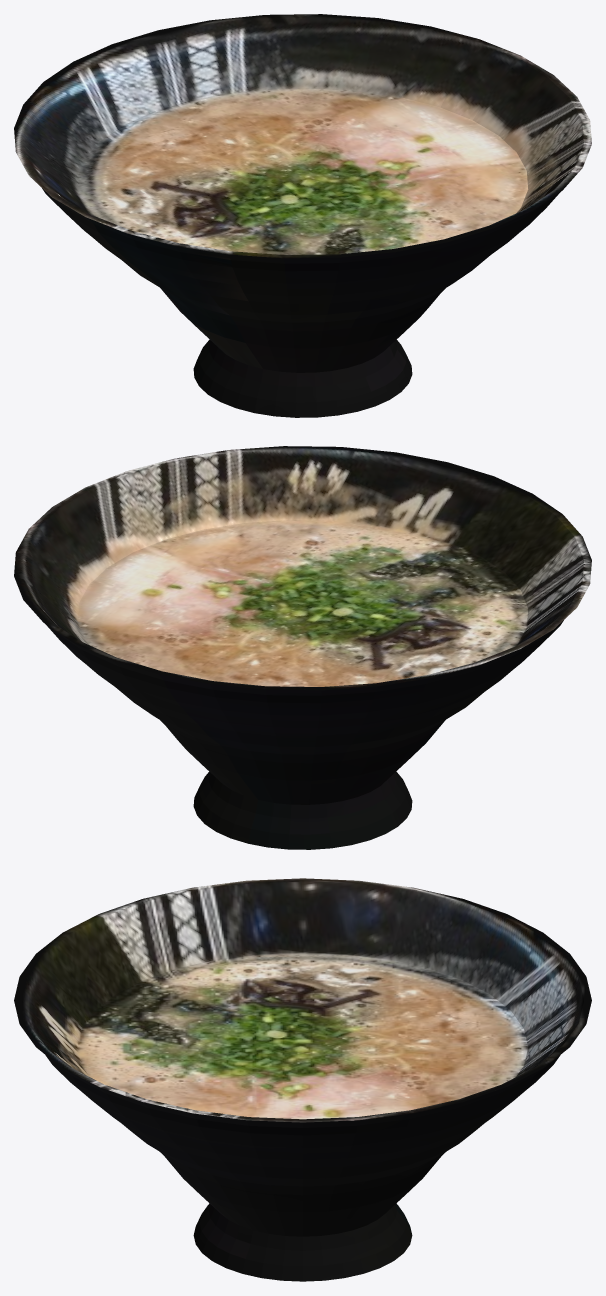
Rendered from issou.fbx.
3 renders of one model, top to bottom at view 1: azimuth 30°, elevation 25°; view 2: azimuth 150°, elevation 25°; view 3: azimuth 270°, elevation 25°, orthographic.
Visible parts, largest first — view 1: Cylinder; view 2: Cylinder; view 3: Cylinder.
Part boxes in pixels (x1,y1,x2,y2): Cylinder: (14, 14, 591, 417); Cylinder: (14, 446, 591, 849); Cylinder: (14, 878, 591, 1281).
Size of the model in its own units: 1528 by 685 by 1528.
Materials: 1 (1 with a texture image).
